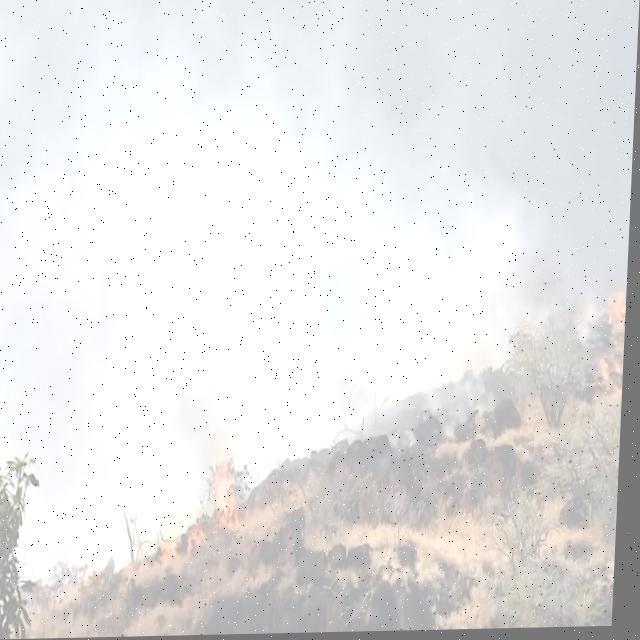Fire: (212, 458, 246, 533), (601, 358, 623, 398), (608, 290, 628, 332), (162, 539, 186, 564), (191, 524, 210, 550)
